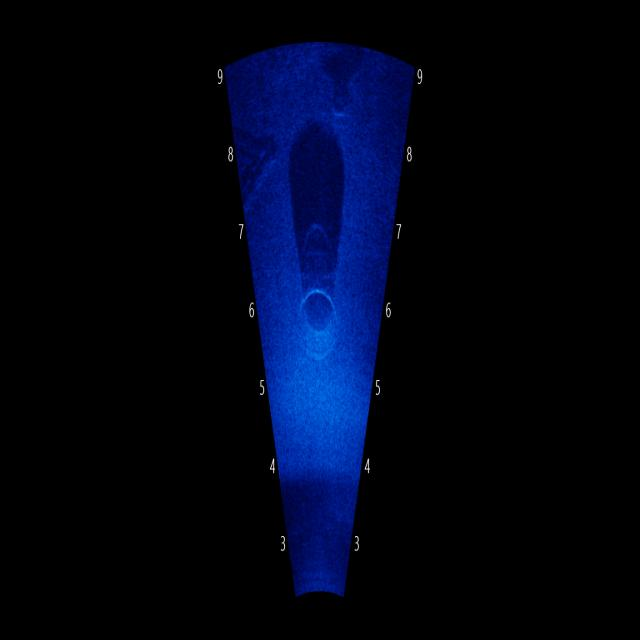circle: (287, 263, 361, 377)
